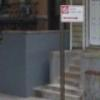stairs: (33, 52, 91, 100)
